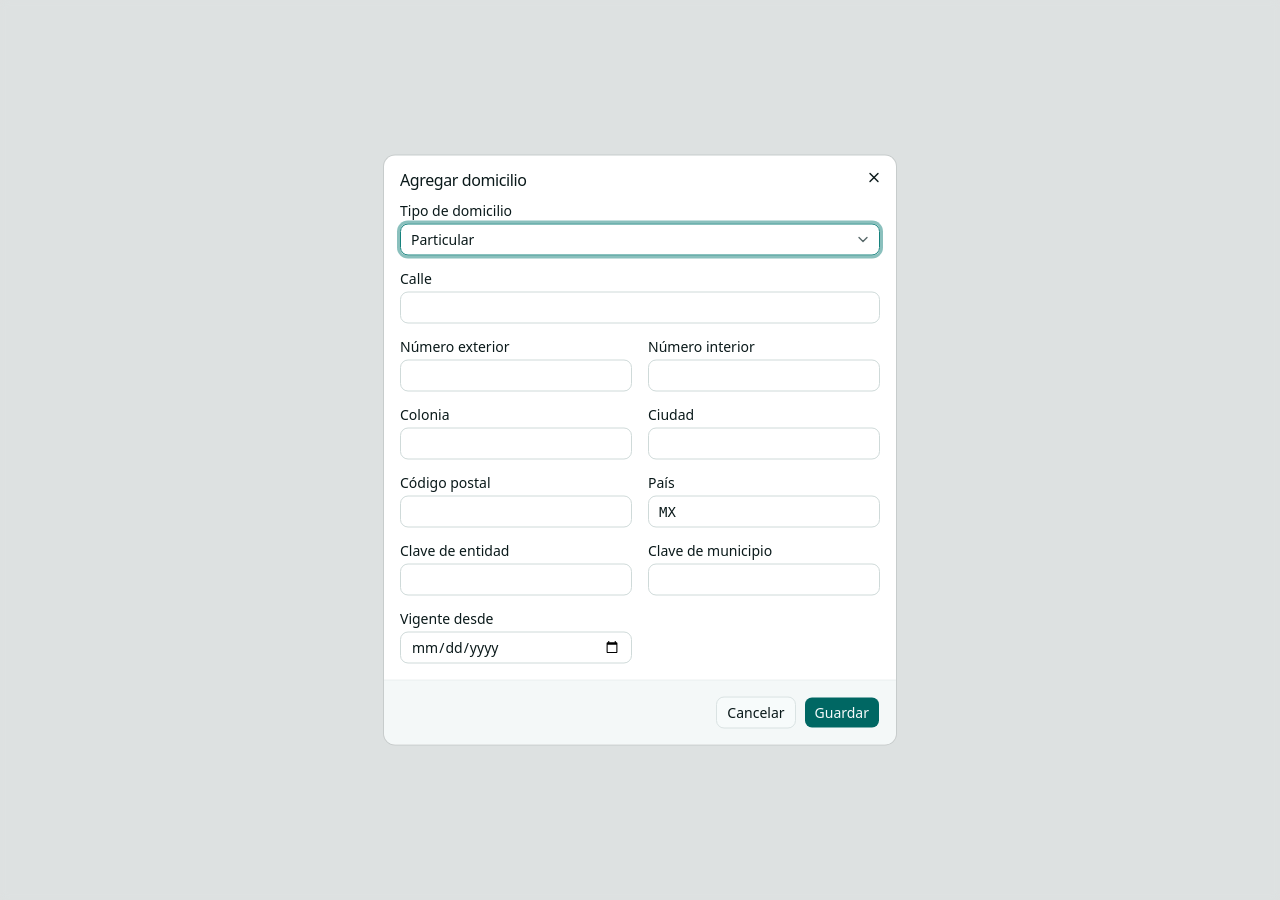
Test: field errors from the server › reach their input, nested ones included
Click the dropdown named "Tipo de domicilio" at (443, 239), box [400,224,880,256]
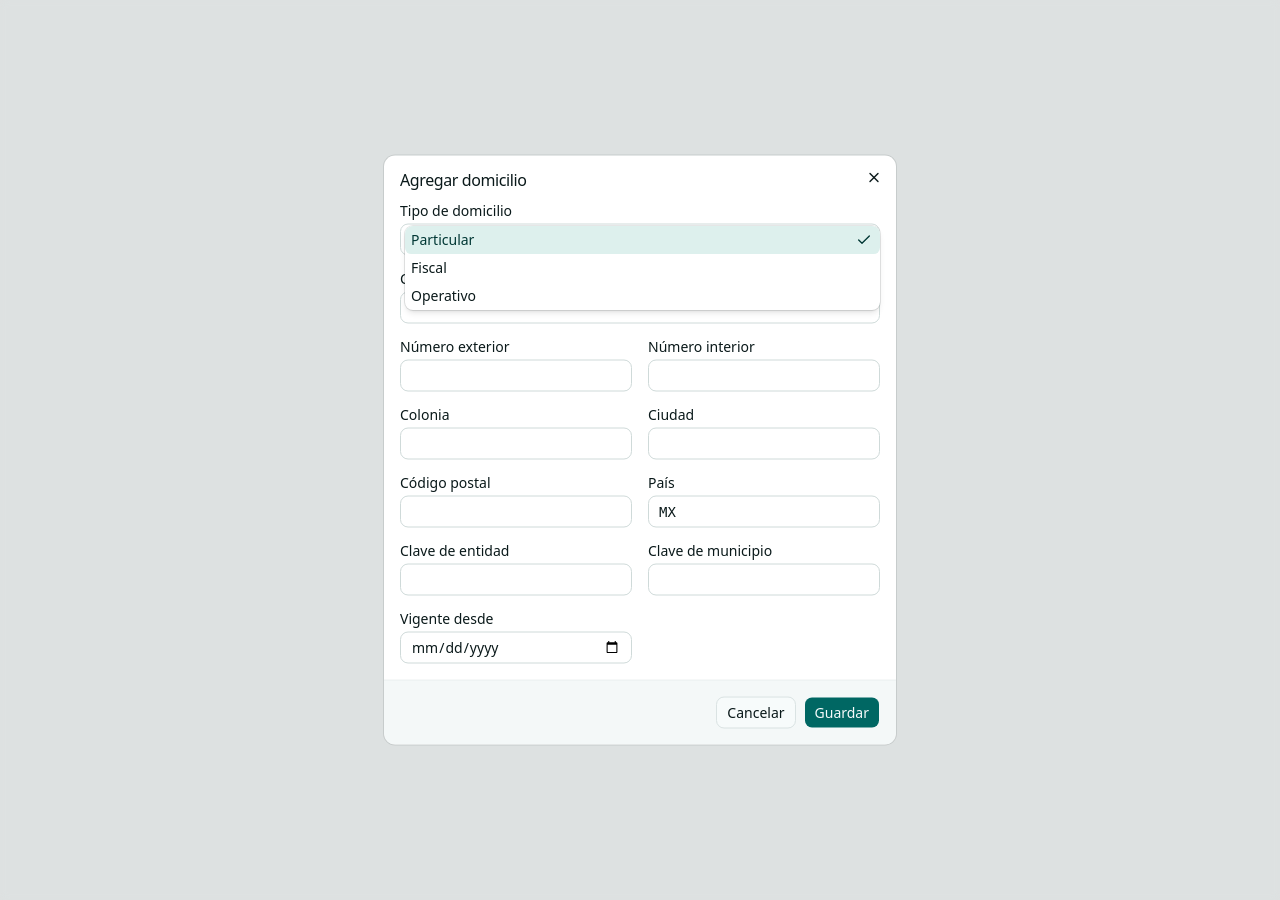
Click the option "Fiscal" at (429, 267), box [411,258,447,276]
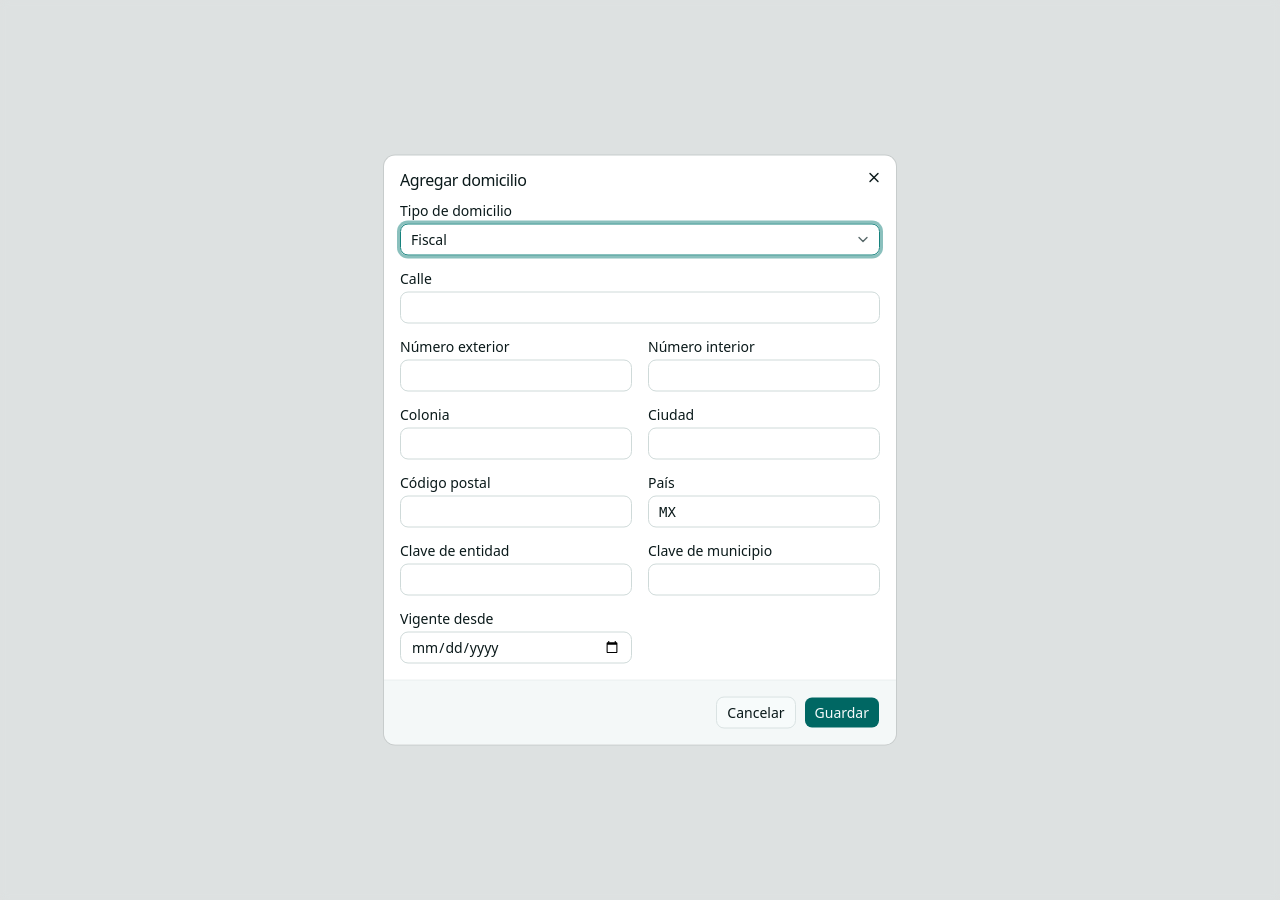
Type "Av. Reforma" into the field labelled "Calle" at (640, 308), box [400,292,880,324]
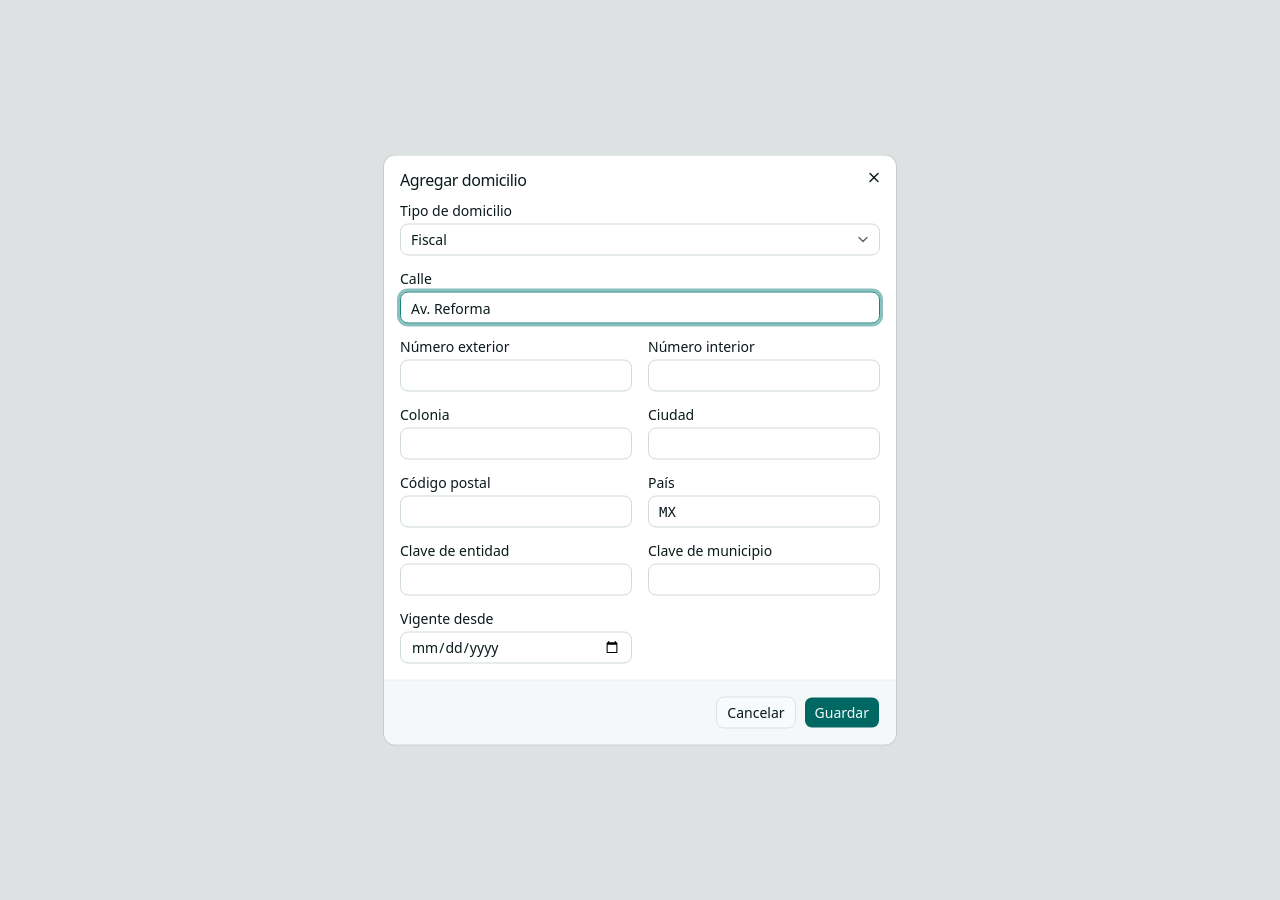
Type "06600" into the field labelled "Código postal" at (516, 512), box [400,496,632,528]
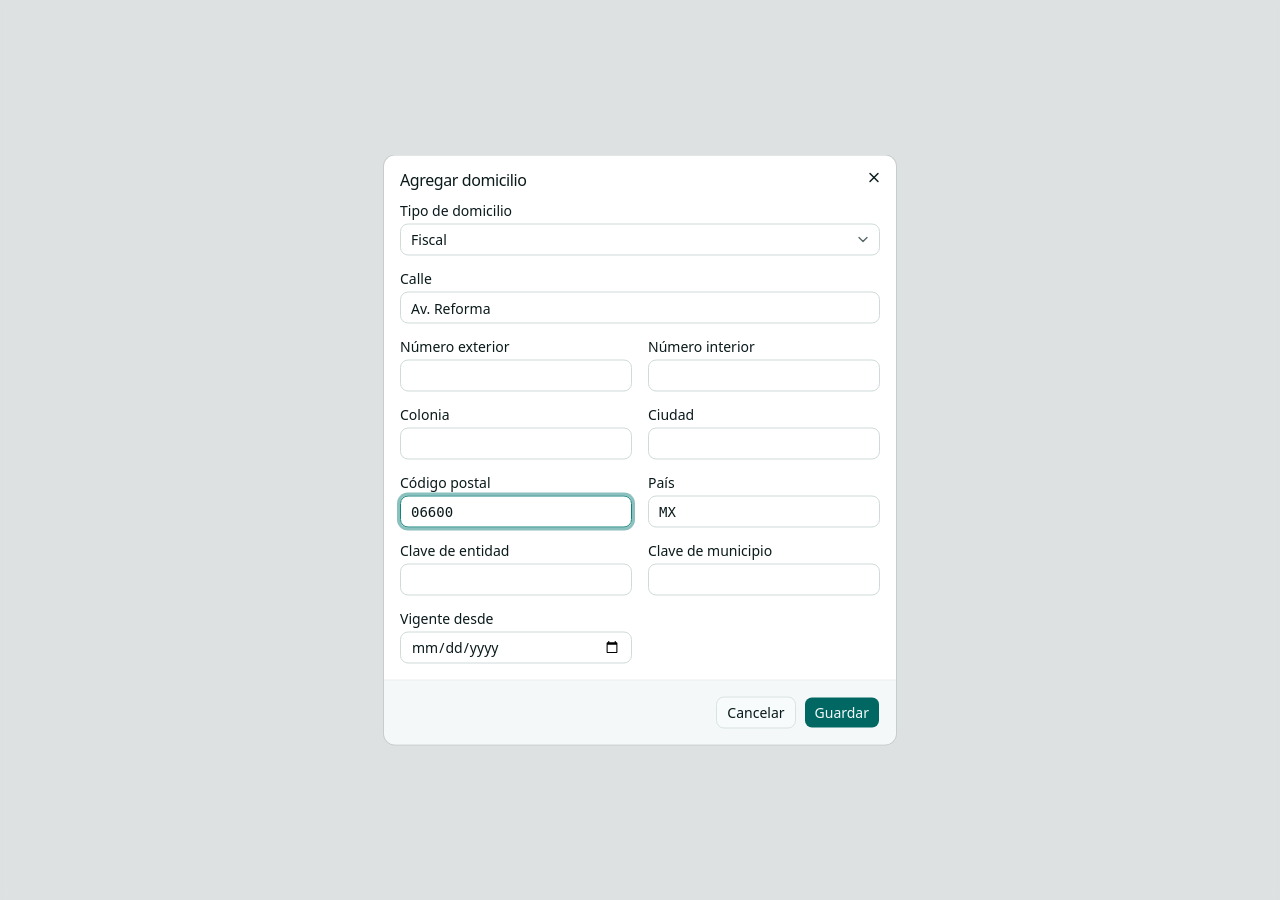
Click the button "Guardar" at (842, 712), box [804,696,880,728]
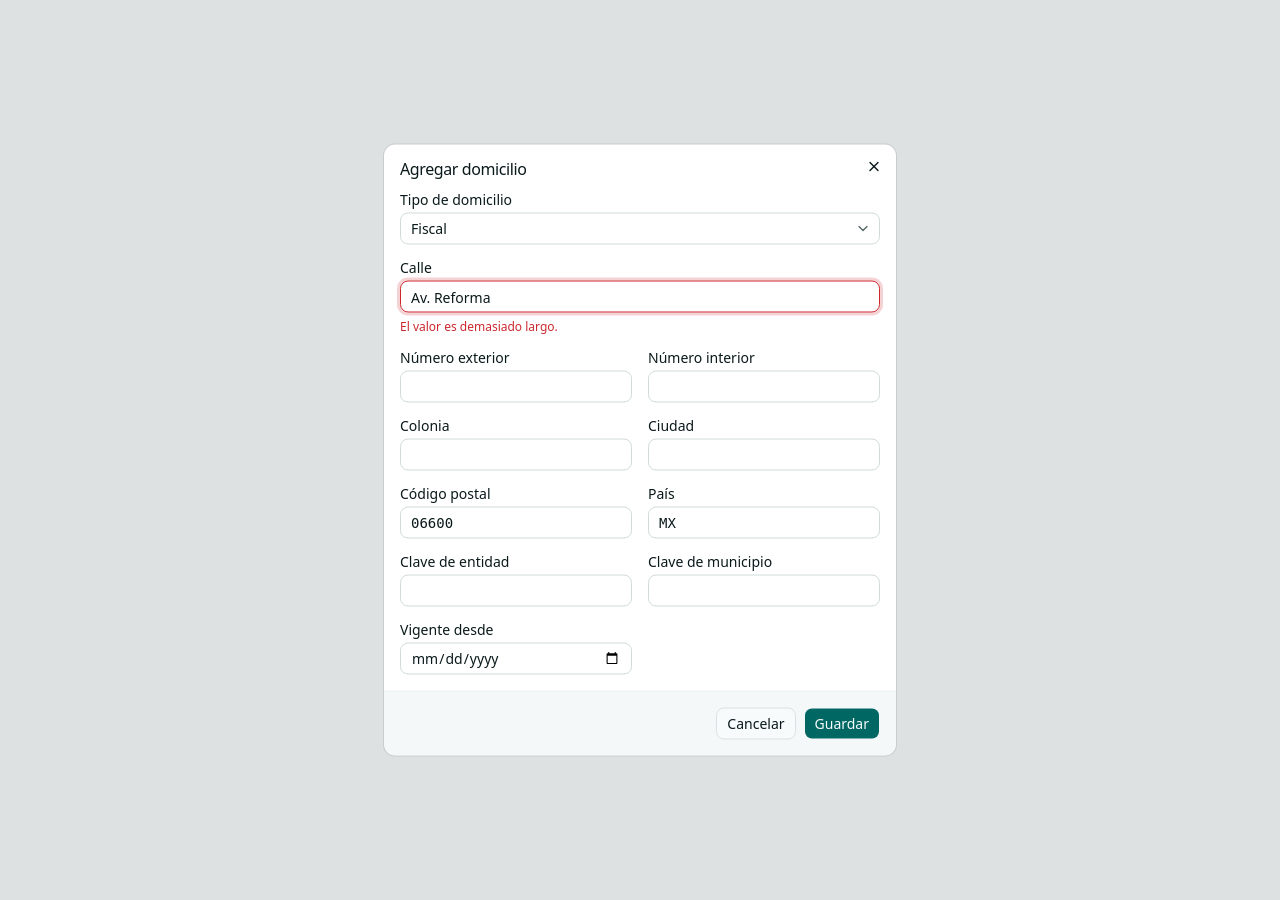
Expected: the message reads "El valor es demasiado largo.", [400,318,558,334]
